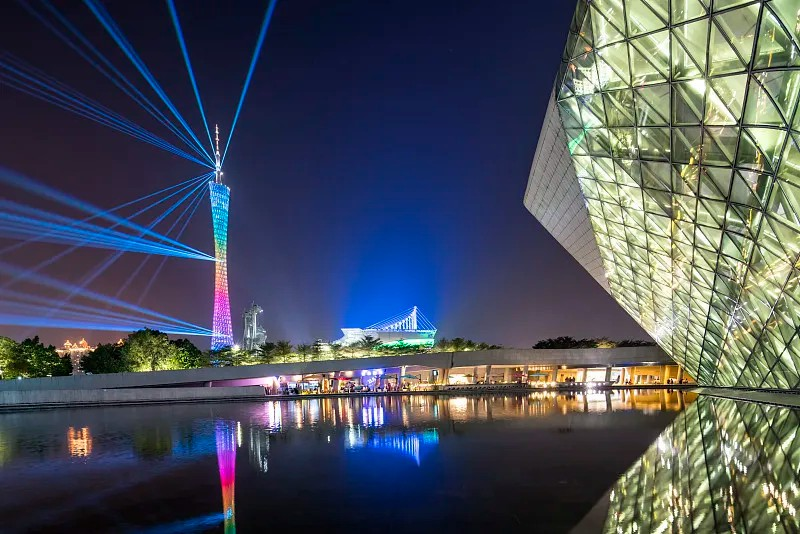Canton: (206, 123, 235, 352)
